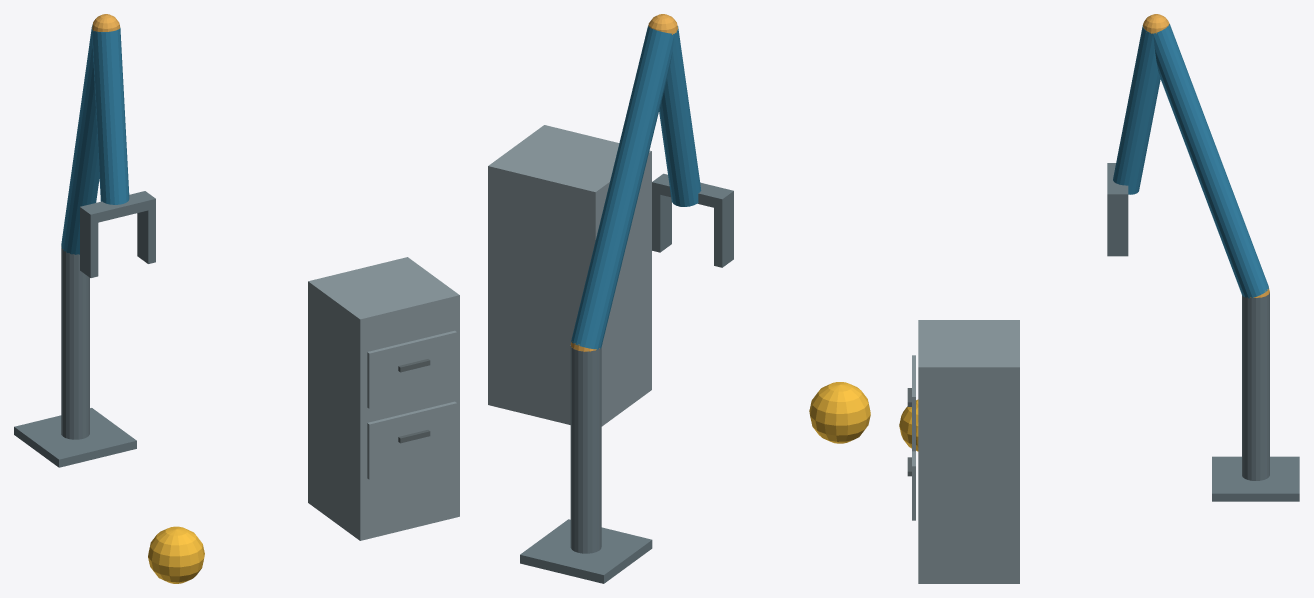
3 renders of one model, left to right at view 1: azimuth 30°, elevation 25°; view 2: azimuth 150°, elevation 25°; view 3: azimuth 270°, elevation 25°, orthographic. The views are drawn at different scales.
Parts seen in each view (by area): view 1: cabinet_1 body, fixed post, moving link 2, cabinet_1 drawer front, cabinet_1 drawer front.001, moving link 1, pedestal, ball ball_1, gripper bridge, gripper finger -1, gripper finger 1; view 2: cabinet_1 body, moving link 1, fixed post, pedestal, moving link 2, ball ball_1, gripper finger -1, gripper finger 1, gripper bridge; view 3: cabinet_1 body, moving link 1, fixed post, moving link 2, pedestal, gripper finger 1, gripper bridge, ball ball_1.
Boxes of the visible parts, x1,y1,x2,y2 form: cabinet_1 body: (308,257,459,540); fixed post: (61,247,89,439); moving link 2: (92,28,129,204); cabinet_1 drawer front: (367,401,456,479); cabinet_1 drawer front.001: (367,330,456,408); moving link 1: (61,25,99,254); pedestal: (14,408,136,467); ball ball_1: (148,526,204,583); gripper bridge: (80,191,155,224); gripper finger -1: (80,217,98,277); gripper finger 1: (137,208,155,263); cabinet_1 body: (488,125,651,426); moving link 1: (571,26,674,349); fixed post: (570,345,601,553); pedestal: (520,519,652,583); moving link 2: (659,26,701,206); ball ball_1: (809,382,870,443); gripper finger -1: (714,201,733,267); gripper finger 1: (652,193,671,252); gripper bridge: (652,173,733,209); cabinet_1 body: (918,320,1019,583); moving link 1: (1153,24,1268,298); fixed post: (1242,292,1269,480); moving link 2: (1113,25,1160,194); pedestal: (1212,456,1299,501); gripper finger 1: (1107,204,1128,256); gripper bridge: (1107,163,1128,203); ball ball_1: (899,399,918,451).
Bounding box in the file's own units: 0.9753 × 1.44 × 1.14.
